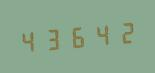four: (18, 25, 41, 56), (90, 18, 113, 49)
six: (66, 21, 89, 51)
three: (42, 23, 65, 54)
two: (114, 16, 137, 47)
